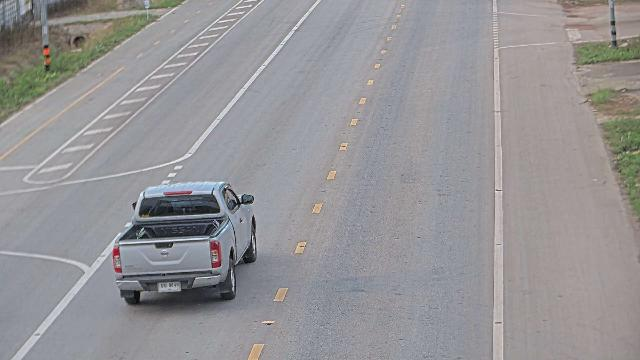pickup-truck: (111, 180, 257, 305)
